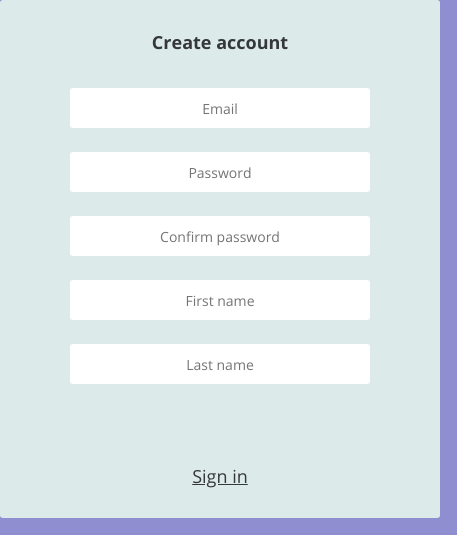
test SignUpForm component › component logic test › email input should work correct with invalid text
Step 1. Type "test@test" into the field with placeholder "Email" → (220, 108), box [70, 88, 370, 128]
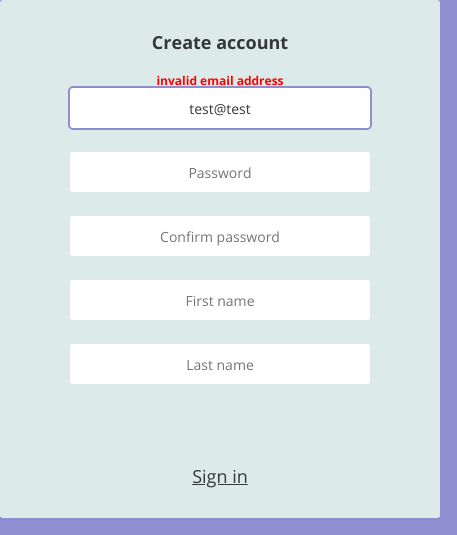
Check: the text "invalid email address" is shown, box [154, 64, 286, 88]
Step 2. Clear the field with placeholder "email" → (220, 108), box [70, 88, 370, 128]
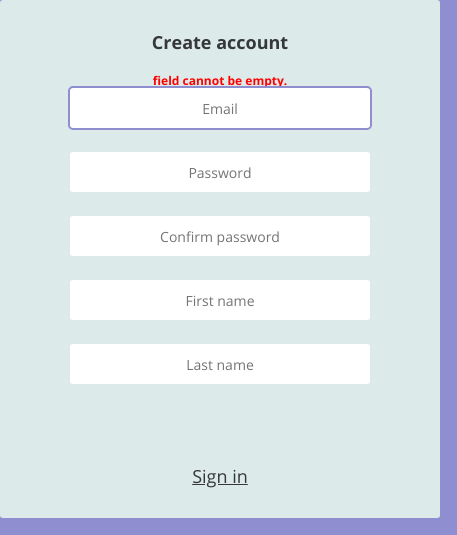
Check: the text "field cannot be empty." is shown, box [151, 64, 289, 88]
